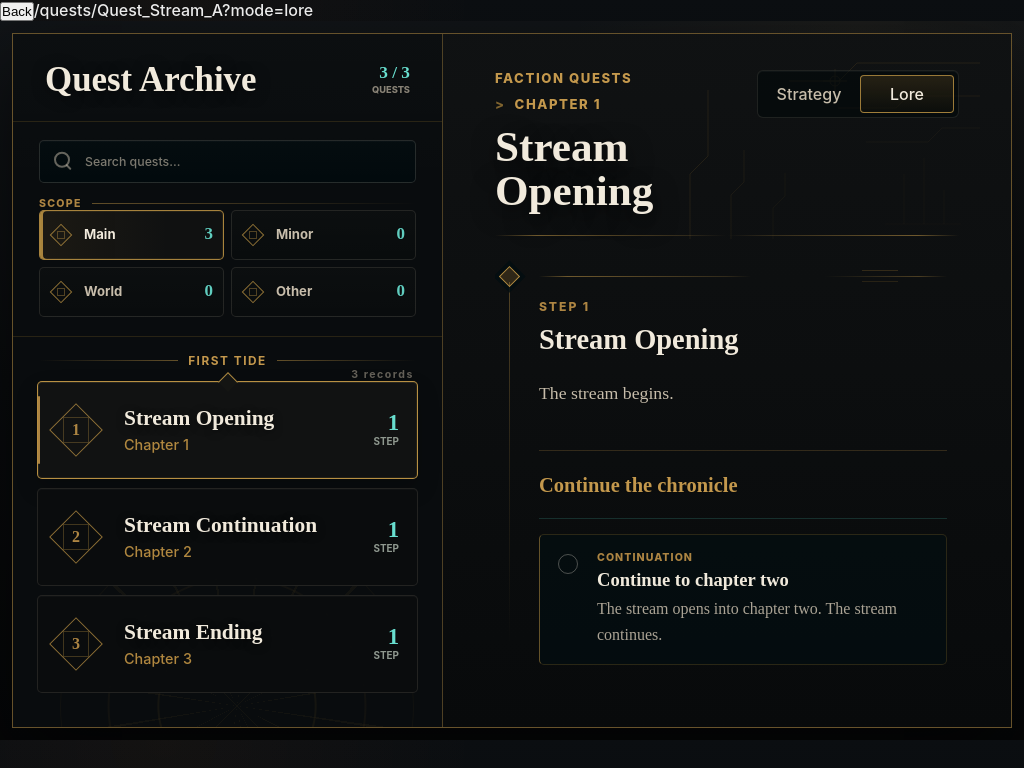
QuestExplorerPage Lore chronicle behavior › replaces passive Lore scroll URL updates without adding a rollback history entry
Expected: the heading "Stream Opening" is shown, left=495, top=123, right=653, bottom=214
Click the button "Continue to chapter two" at point(743, 599), box left=539, top=534, right=947, bottom=665
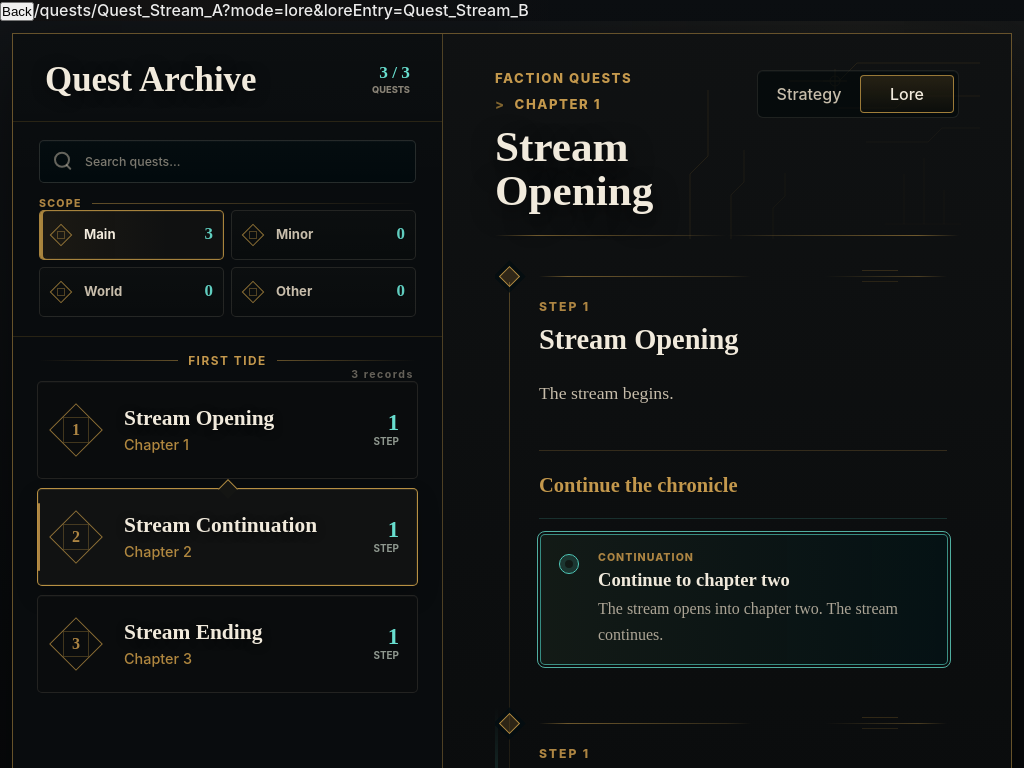
Expected: the text with test id "route-location" shows "/quests/Quest_Stream_A", left=34, top=0, right=529, bottom=20
Now the text with test id "route-location" shows "loreEntry=Quest_Stream_B", box left=34, top=0, right=529, bottom=20
Click the button "Back" at point(17, 12), box left=0, top=2, right=34, bottom=21
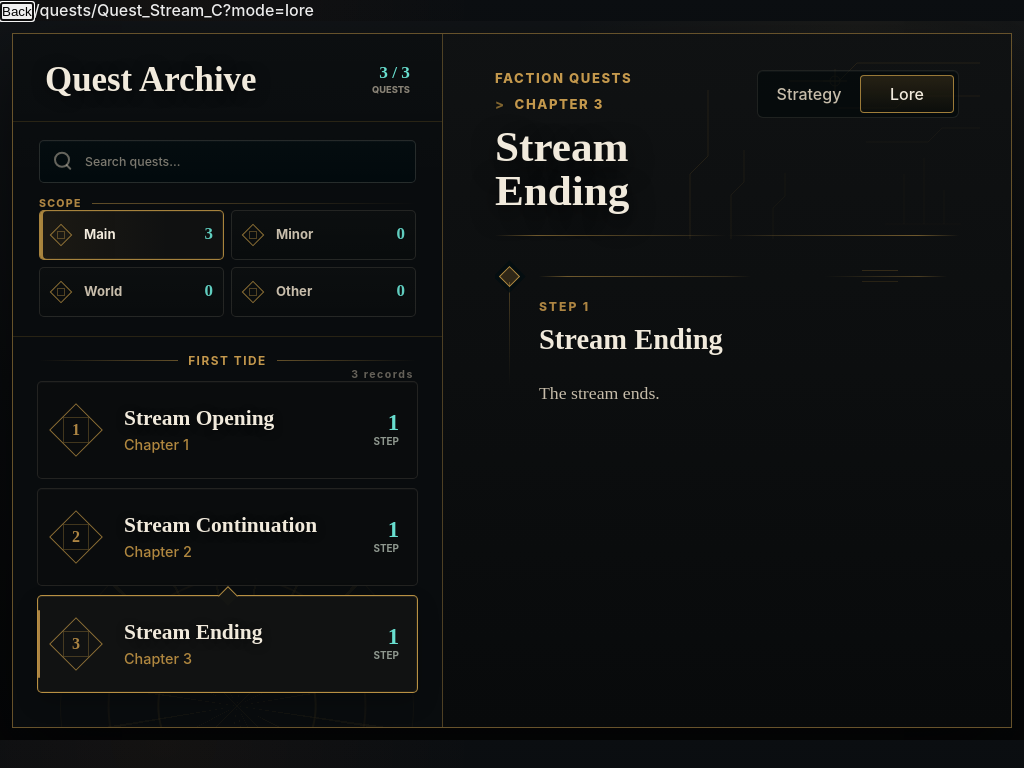
Now the text with test id "route-location" reads "/quests/Quest_Stream_C?mode=lore", box left=34, top=0, right=314, bottom=20
Now the heading "Stream Ending" is shown, box left=495, top=123, right=630, bottom=214
